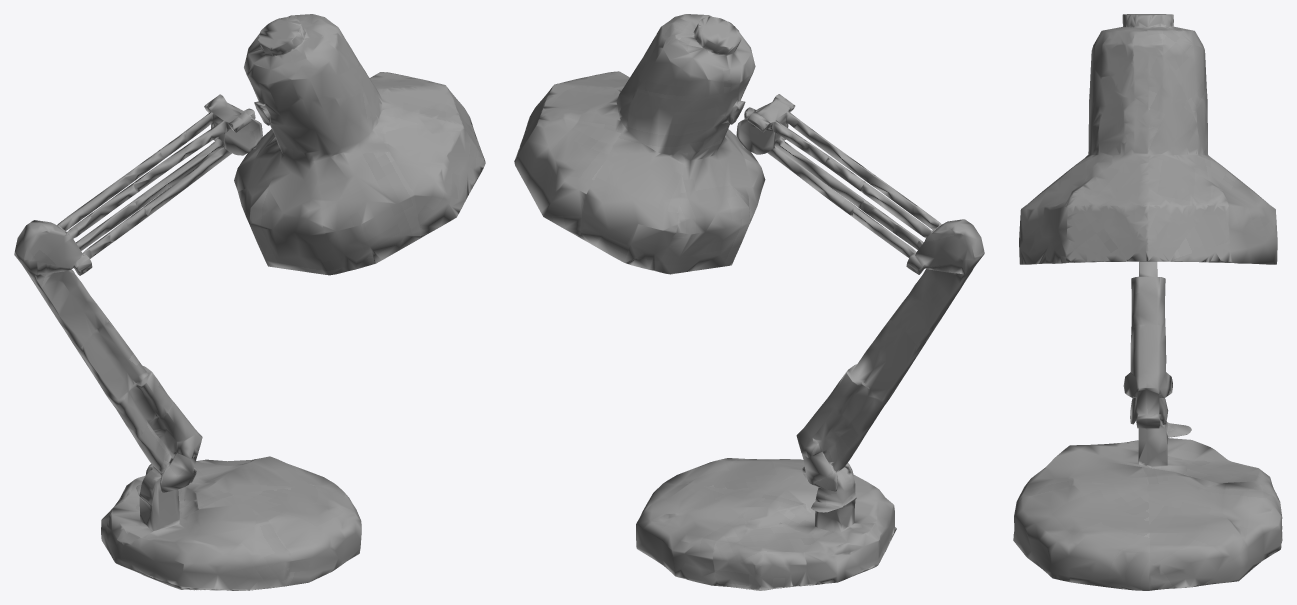
The model's file is l_desk_lamp.glb.
3 views of the same model, side by side, from view 1: azimuth 30°, elevation 25°; view 2: azimuth 150°, elevation 25°; view 3: azimuth 270°, elevation 25° (orthographic). The views are drawn at different scales.
Visible parts, largest first — view 1: tripo_node_ba37f4f6-8825-4d2c-bb75-b1d52c735afb; view 2: tripo_node_ba37f4f6-8825-4d2c-bb75-b1d52c735afb; view 3: tripo_node_ba37f4f6-8825-4d2c-bb75-b1d52c735afb.
Boxes of the visible parts, left/top/right/bottom form: tripo_node_ba37f4f6-8825-4d2c-bb75-b1d52c735afb: left=14, top=14, right=485, bottom=590; tripo_node_ba37f4f6-8825-4d2c-bb75-b1d52c735afb: left=514, top=14, right=984, bottom=590; tripo_node_ba37f4f6-8825-4d2c-bb75-b1d52c735afb: left=1013, top=14, right=1282, bottom=590.
Size of the model in its own units: 0.9344 by 1 by 0.4407.
Materials: 1 (1 with a texture image).
